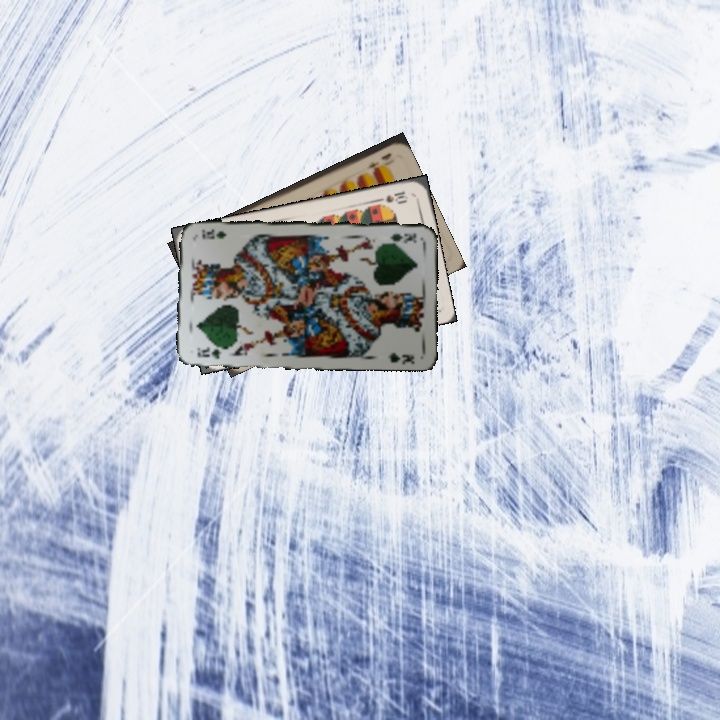E10: (363, 149, 394, 172)
GK: (386, 229, 419, 245), (193, 344, 224, 361)
S10: (373, 187, 410, 205)
